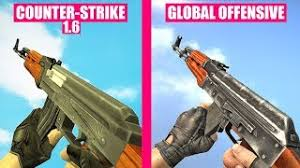gun: (171, 32, 298, 167), (11, 35, 141, 166)
